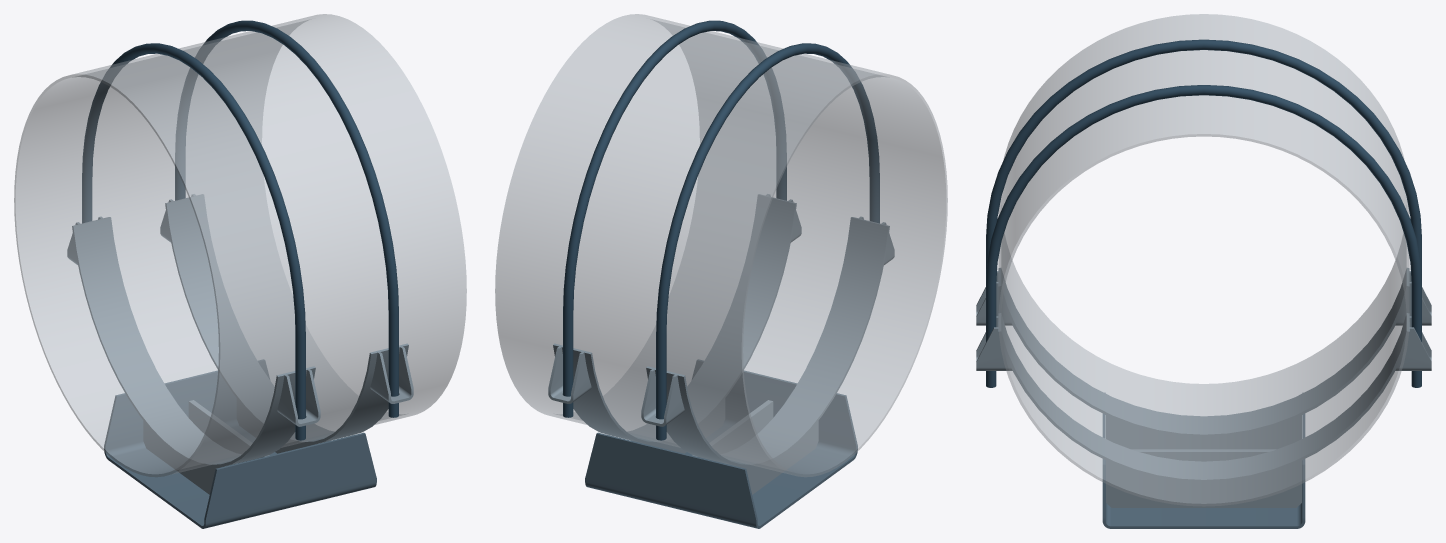
File: TS-626.00.000-124-opora-dn1420-H150-L680.glb
The picture shows the model from 3 angles, left to right: view 1: azimuth 30°, elevation 25°; view 2: azimuth 150°, elevation 25°; view 3: azimuth 270°, elevation 25°; orthographic projection.
Visible parts, largest first — view 1: truba, skoba_0, podushka_5, podushka_6, homut_0, homut_1, rebro4_1, ushko_8, ushko_10, rebro5_4, rebro4_2; view 2: truba, skoba_0, podushka_5, podushka_6, homut_0, homut_1, rebro4_1, ushko_7, ushko_9, rebro5_4, rebro4_2; view 3: truba, podushka_6, podushka_5, homut_1, homut_0, rebro4_2, skoba_0, rebro4_1, rebro5_3, ushko_9, ushko_10, ushko_7 (+1 smaller).
Boxes of the visible parts, x1,y1,x2,y2 form: truba: (14, 14, 466, 477); skoba_0: (104, 359, 376, 528); podushka_5: (72, 217, 315, 467); podushka_6: (165, 194, 408, 444); homut_0: (82, 43, 305, 440); homut_1: (175, 20, 398, 417); rebro4_1: (143, 421, 235, 494); ushko_8: (277, 369, 320, 426); ushko_10: (370, 346, 413, 403); rebro5_4: (188, 401, 266, 463); rebro4_2: (237, 399, 329, 453); truba: (495, 14, 947, 477); skoba_0: (585, 359, 857, 528); podushka_5: (646, 217, 889, 467); podushka_6: (553, 194, 796, 444); homut_0: (656, 43, 879, 440); homut_1: (563, 20, 786, 417); rebro4_1: (726, 421, 818, 494); ushko_7: (641, 369, 684, 426); ushko_9: (548, 346, 591, 403); rebro5_4: (695, 401, 773, 463); rebro4_2: (632, 399, 724, 453); truba: (998, 14, 1409, 506); podushka_6: (998, 313, 1409, 482); podushka_5: (998, 268, 1409, 437); homut_1: (986, 85, 1421, 387); homut_0: (986, 39, 1421, 279); rebro4_2: (1106, 460, 1301, 507); skoba_0: (1102, 414, 1305, 528); rebro4_1: (1106, 415, 1301, 449); rebro5_3: (1135, 450, 1272, 461); ushko_9: (1395, 316, 1431, 370); ushko_10: (976, 316, 1012, 370); ushko_7: (1395, 271, 1431, 325).
Bounding box in the file's own units: 980 × 1618 × 1572.
